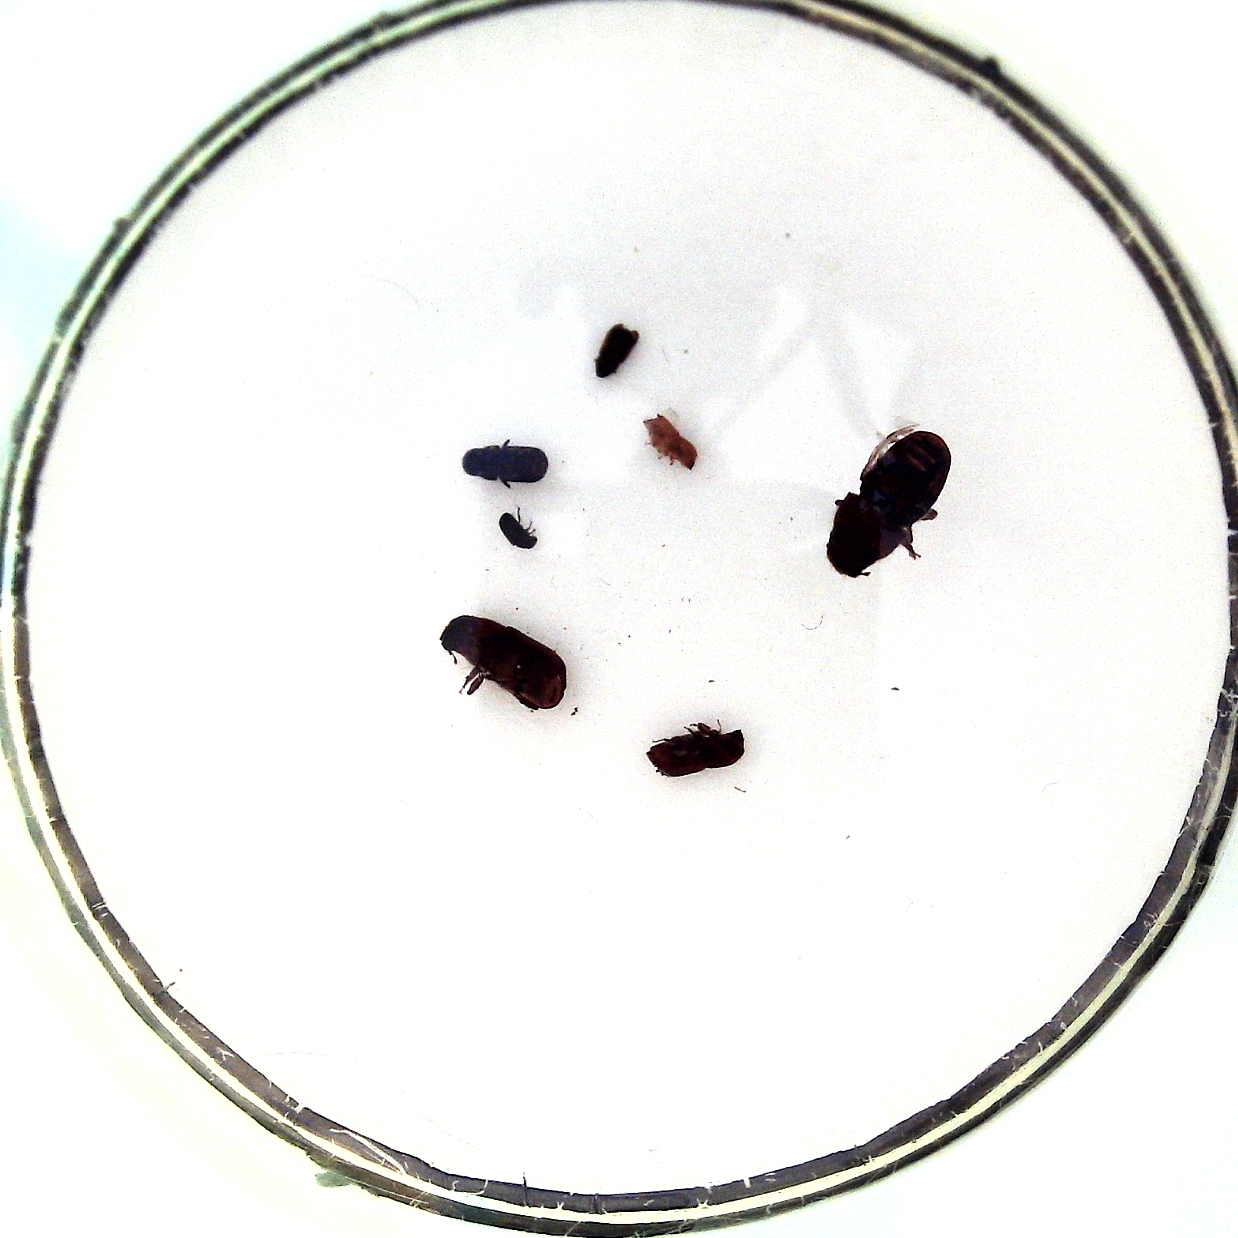Leconte: (826, 429, 951, 578), (438, 614, 567, 709)
acuminatus: (498, 512, 536, 549)
armandi: (461, 444, 546, 482)
coleoptera: (643, 413, 698, 470), (595, 323, 638, 378)
linnaeus: (645, 728, 745, 775)
